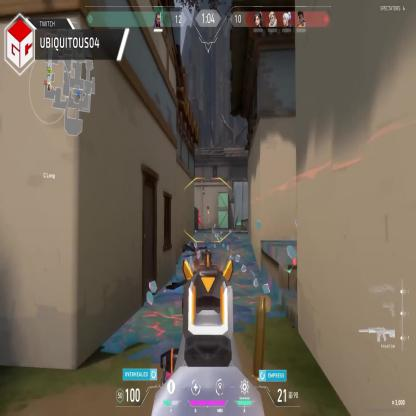enemy: (197, 209, 203, 229)
enemy_head: (196, 209, 199, 214)
